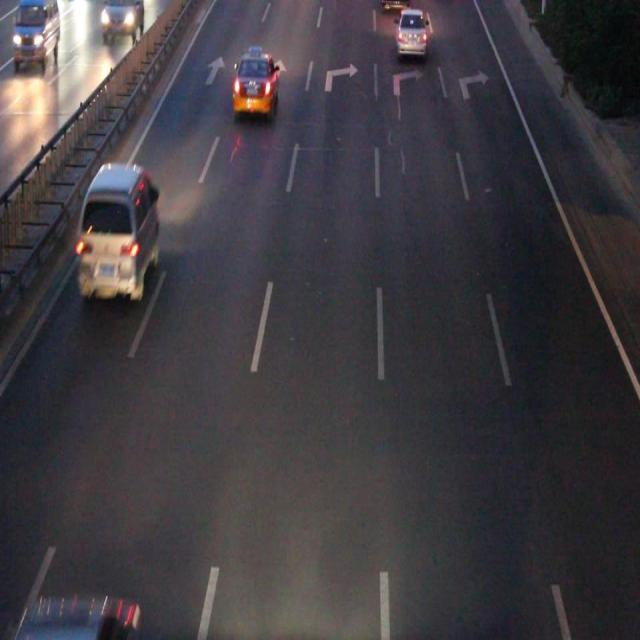car: (233, 57, 278, 111), (398, 10, 426, 54)
truck: (79, 166, 158, 296)
